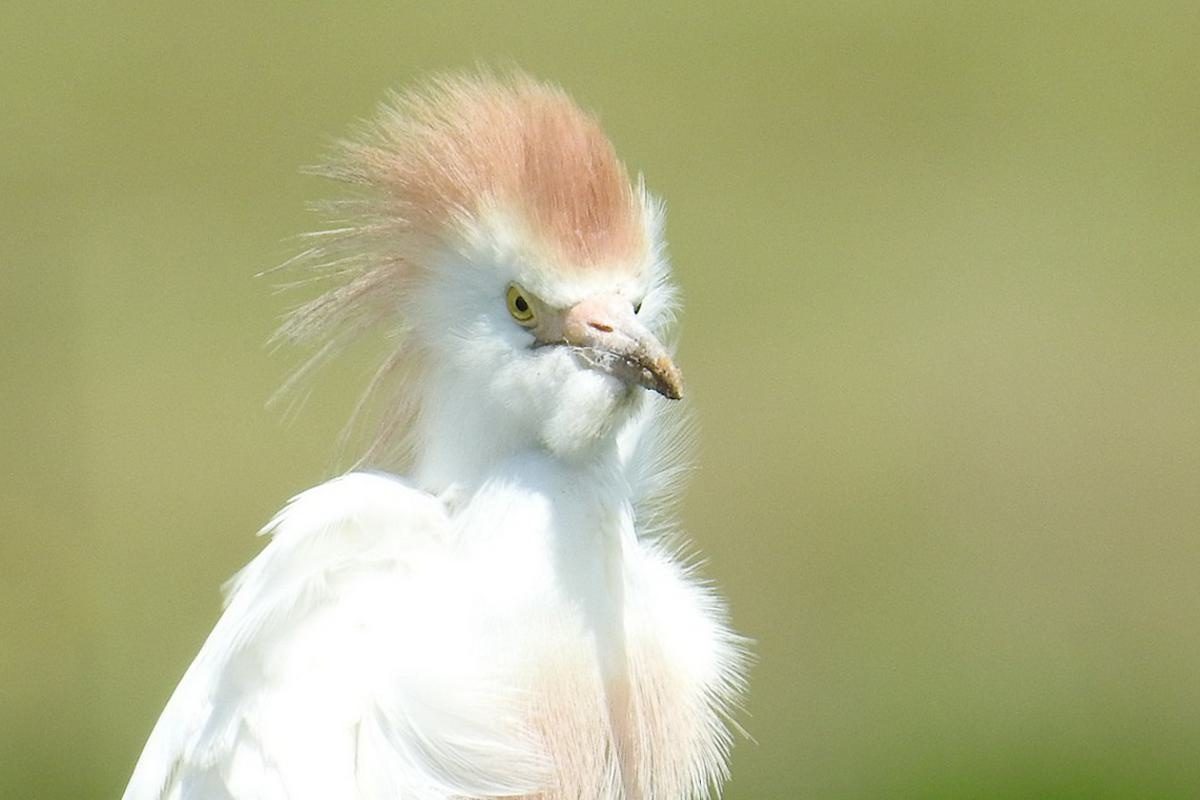egret: (118, 60, 761, 800)
